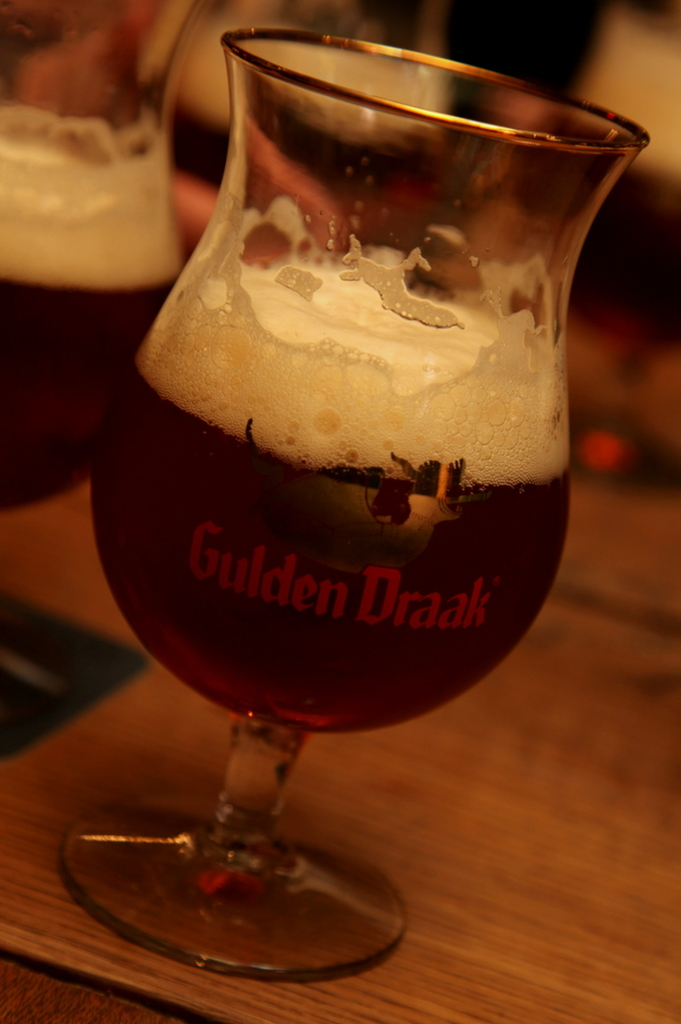Beer: (90, 192, 572, 730)
